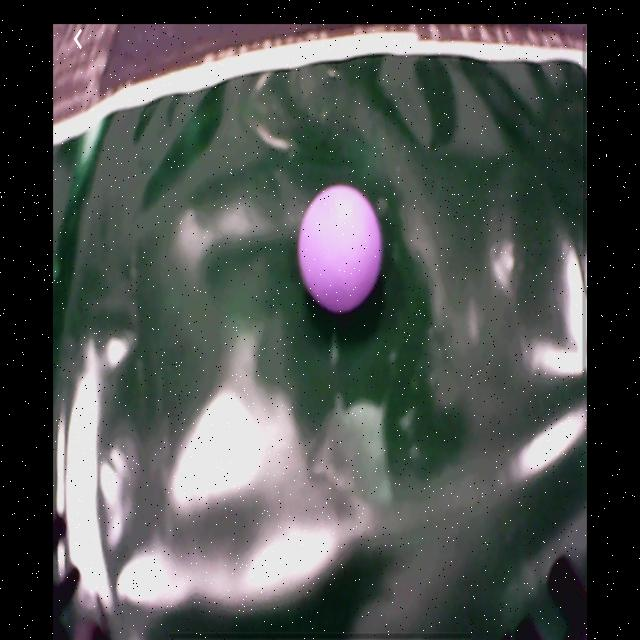ball: (299, 185, 385, 311)
